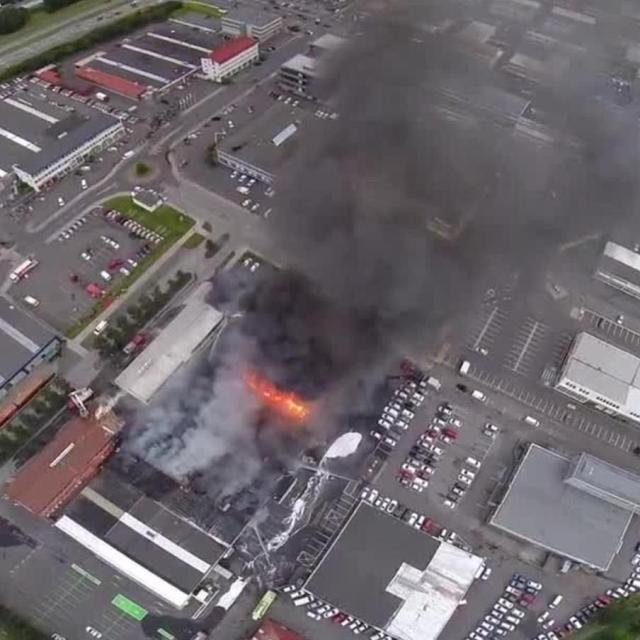Fire: (250, 366, 324, 426)
Smoke: (289, 38, 598, 334), (146, 238, 428, 506), (126, 348, 248, 484)
